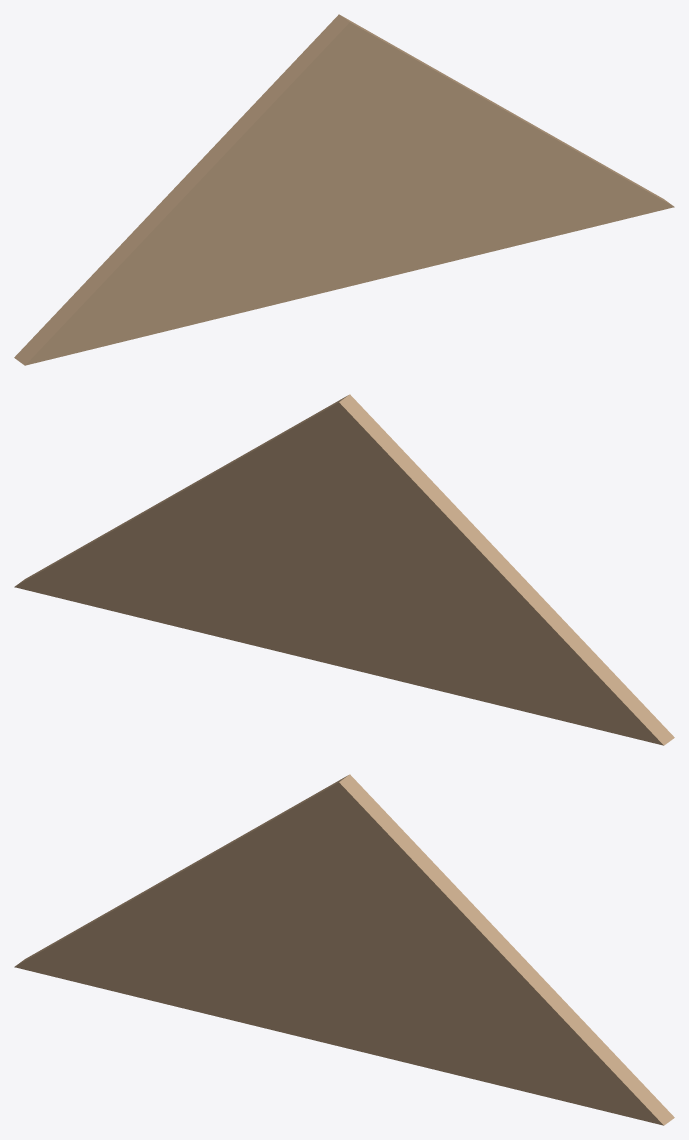
File: Wall2_C1_16.fbx
3 renders of one model, top to bottom at view 1: azimuth 30°, elevation 25°; view 2: azimuth 150°, elevation 25°; view 3: azimuth 330°, elevation 25°, orthographic.
Parts seen in each view (by area): view 1: Wall2_C1_16; view 2: Wall2_C1_16; view 3: Wall2_C1_16.
Part boxes in pixels (box(x1,y1,x2,y2)): Wall2_C1_16: box(14, 14, 674, 365); Wall2_C1_16: box(14, 394, 674, 745); Wall2_C1_16: box(14, 774, 674, 1125).
Bounding box in the file's own units: 515 × 200 × 15.
